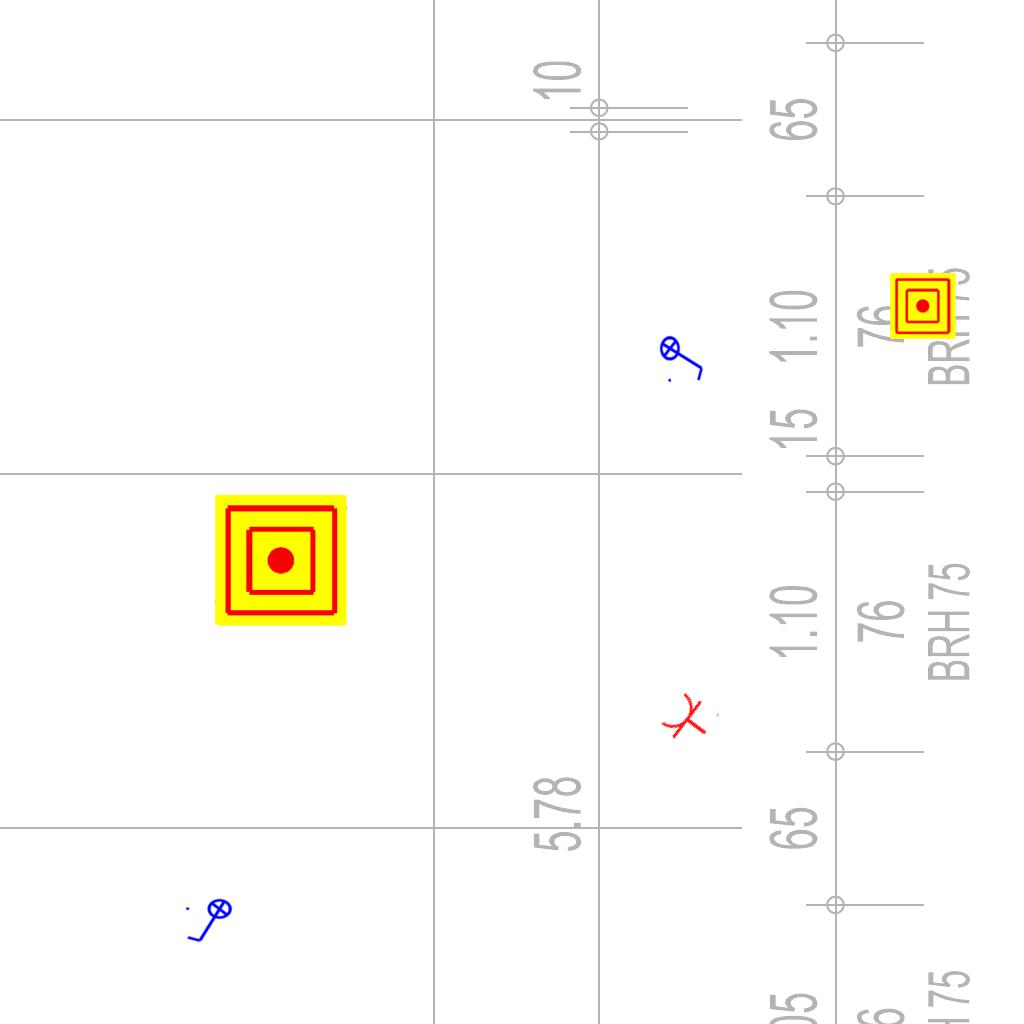Ausschalter_beleuchtet: (659, 329, 707, 385), (183, 898, 239, 946)
NAM-Nichtautomatischer_Melder: (215, 494, 347, 626), (890, 273, 956, 339)
Schukosteckdose_einfach: (657, 687, 722, 753)
